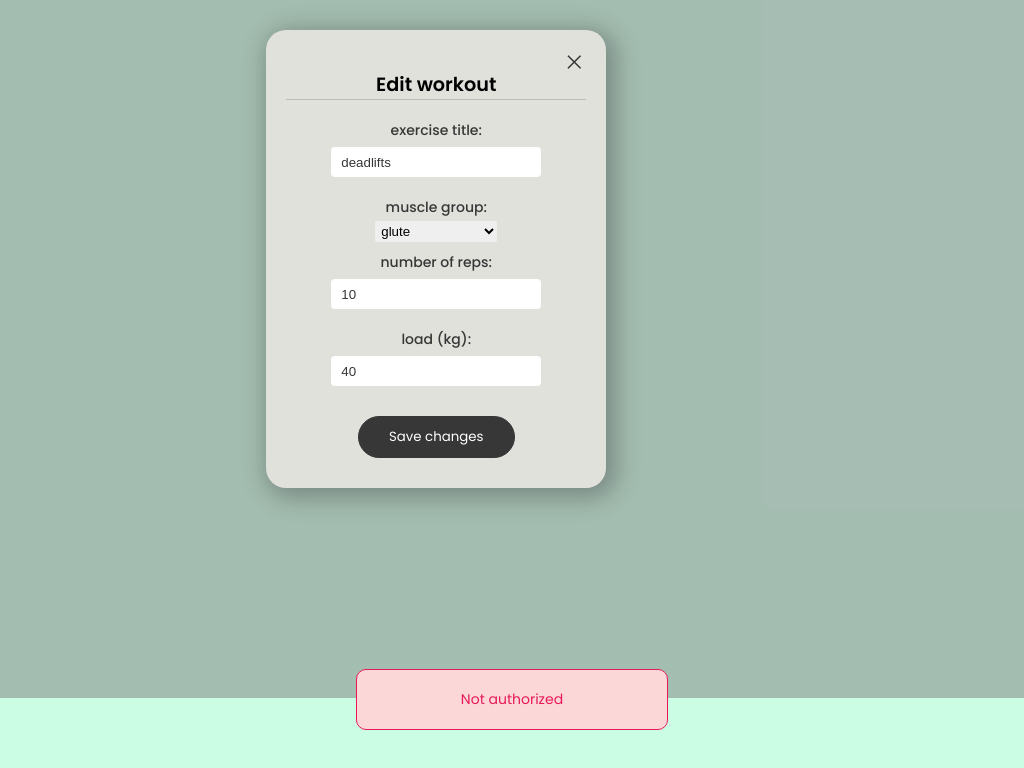
Test case: <EditWorkout/> › should signal input error when user attempts to submit form with too long title
Replace the text in the field with test id "title" with "adasdaasdsdfsdfdddfdfsdfsfsdfsfddsfsfsfsdfterttrteefrfwfwfwefwefweffefwe" at coordinates (436, 162), box x1=331 y1=147 x2=541 y2=177
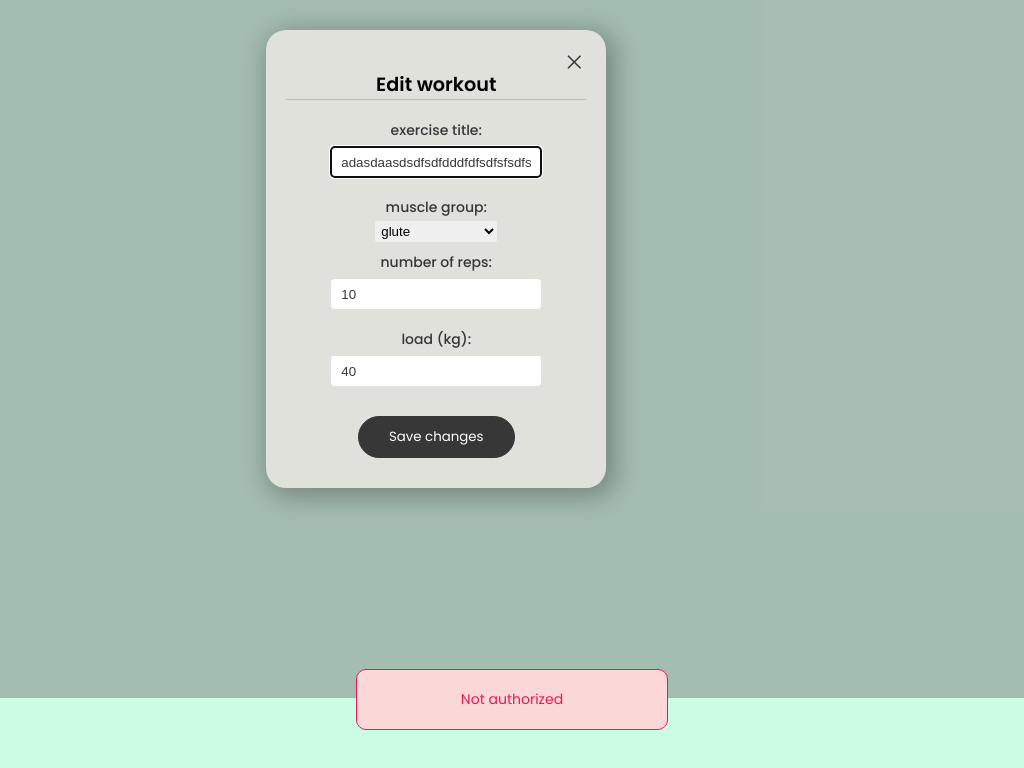
Click the button "Save changes".
click(436, 437)  # box x1=358 y1=416 x2=514 y2=458
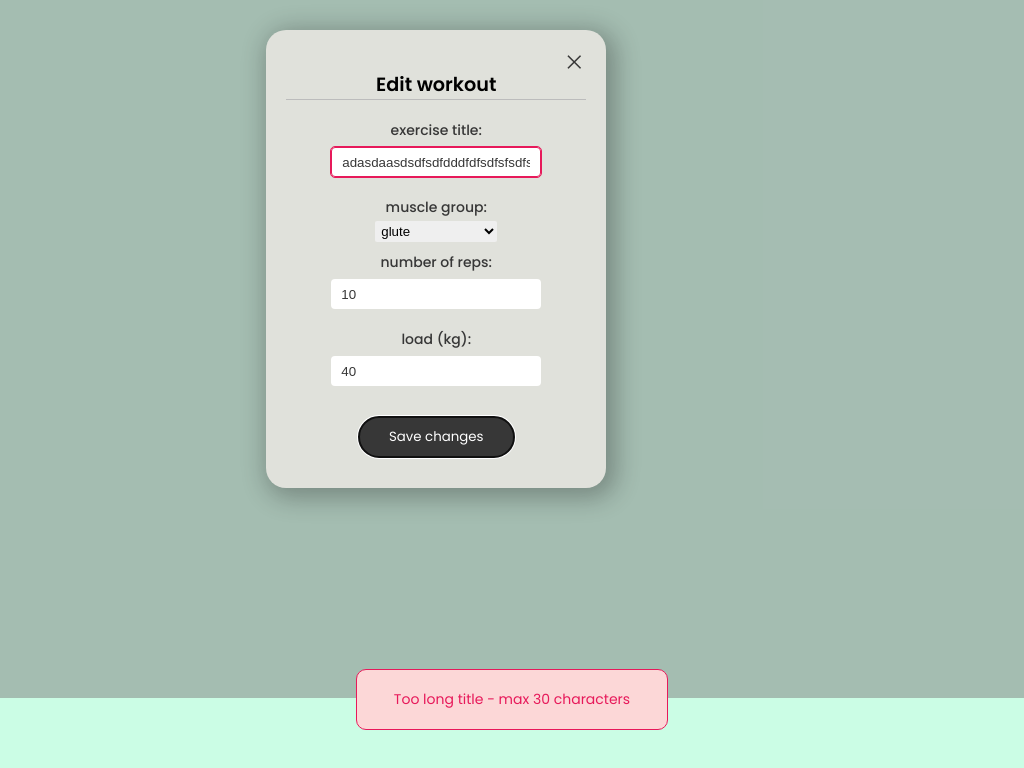
Check: the message shows "max 30 characters", box x1=394 y1=689 x2=630 y2=709
